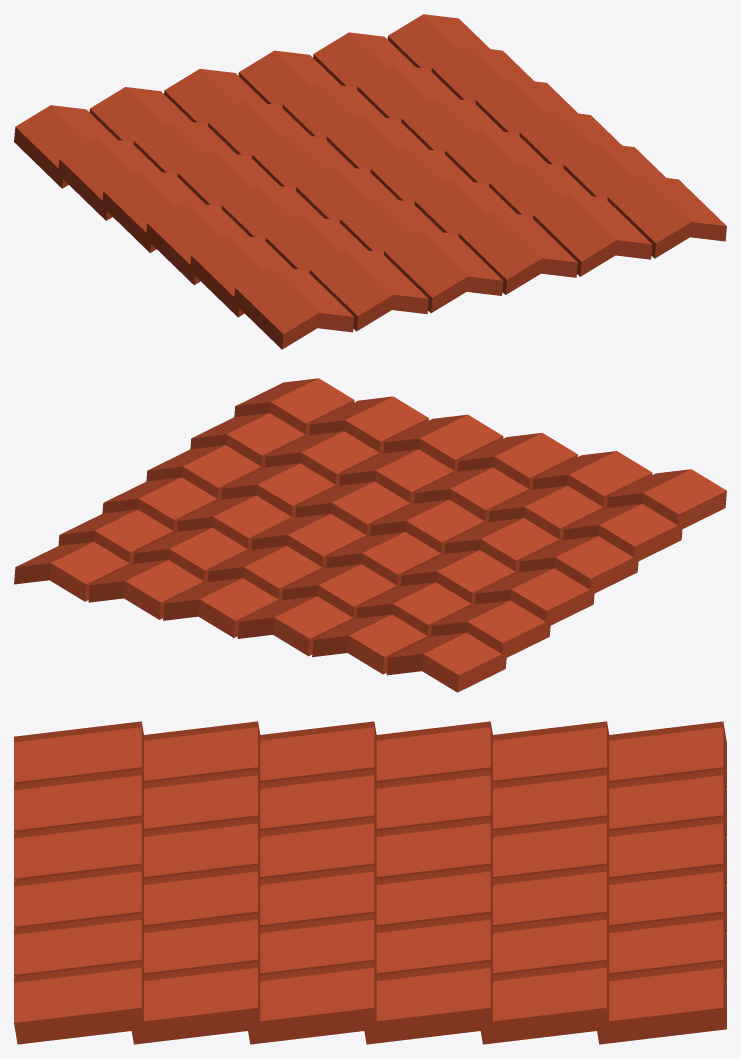
Rendered from Wall12.fbx.
The picture shows the model from 3 angles, top to bottom: view 1: azimuth 30°, elevation 25°; view 2: azimuth 150°, elevation 25°; view 3: azimuth 270°, elevation 25°; orthographic projection. The views are drawn at different scales.
Visible parts, largest first — view 1: Roof; view 2: Roof; view 3: Roof.
Part boxes in pixels (x1=…): Roof: x1=14, y1=14, x2=726, y2=349; Roof: x1=14, y1=378, x2=726, y2=692; Roof: x1=14, y1=721, x2=726, y2=1044.
Size of the model in its own units: 208 by 18.29 by 219.
